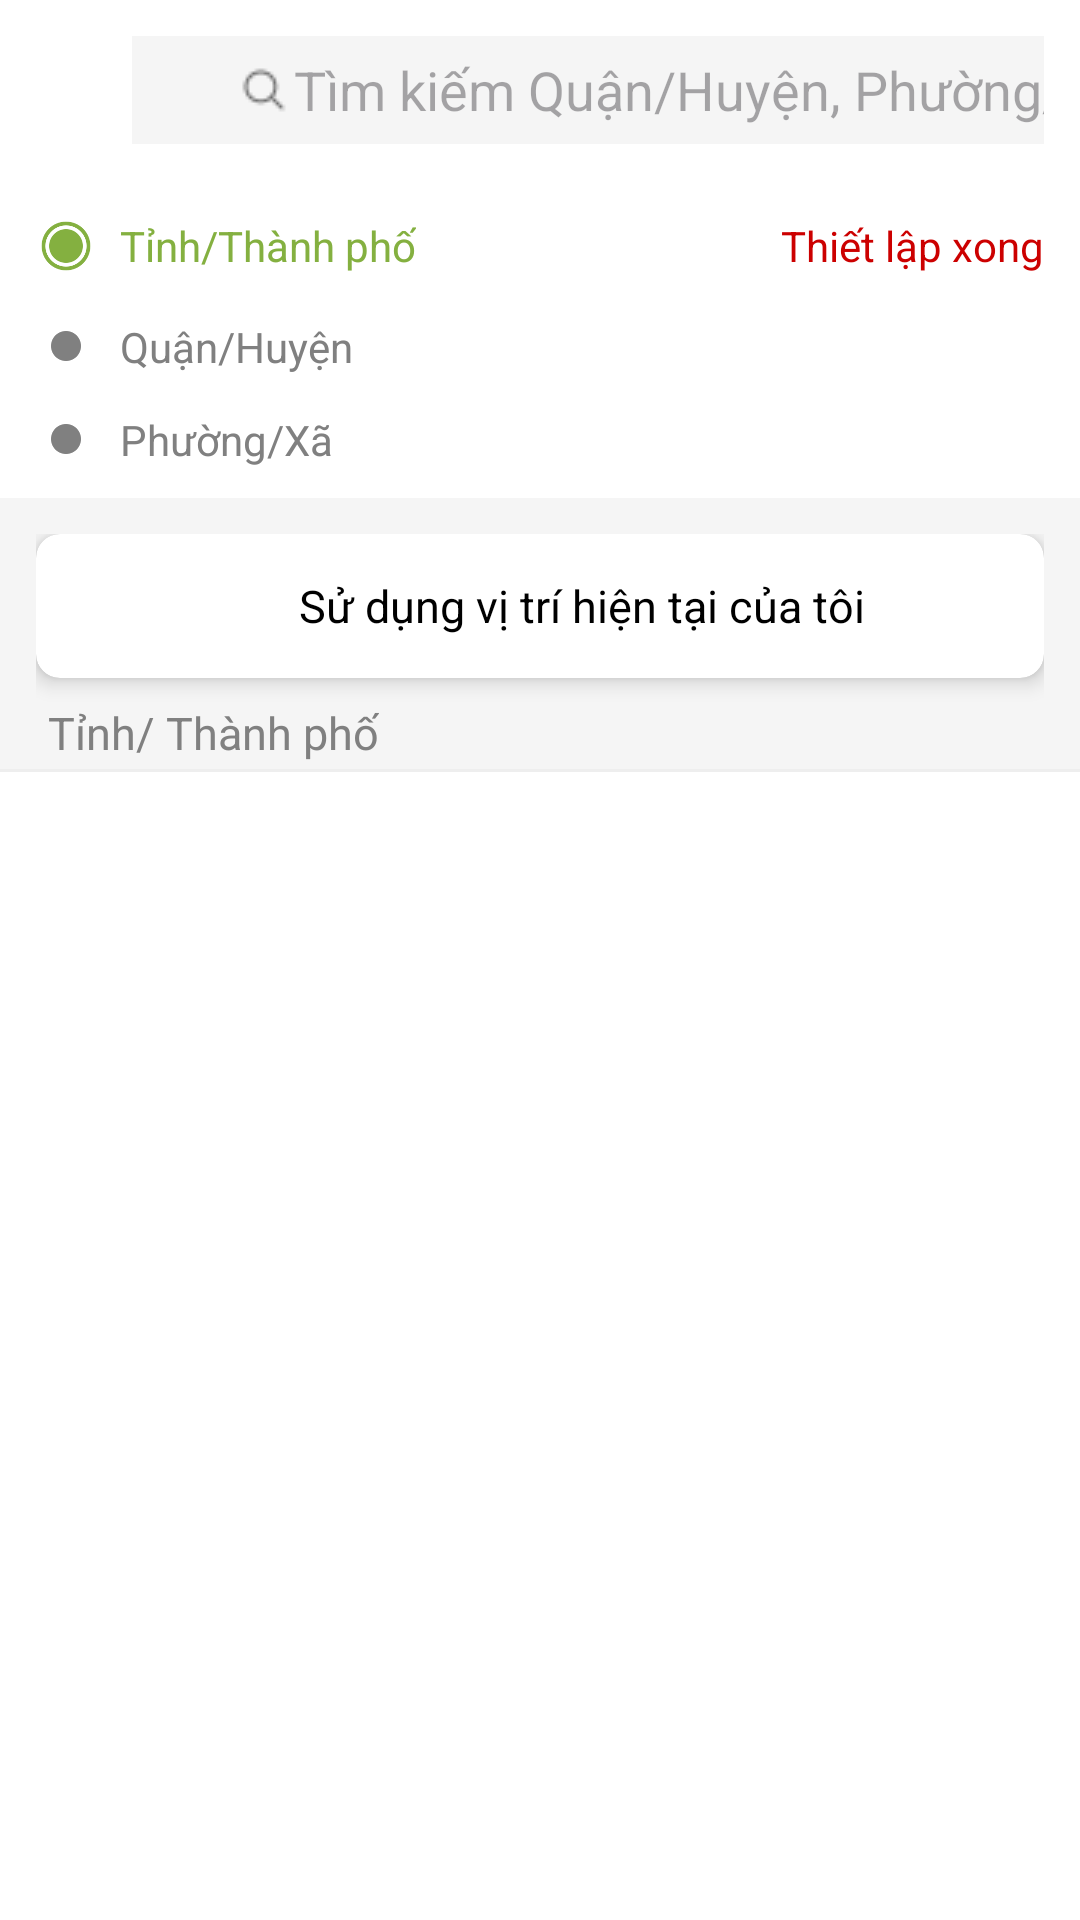

Locate icon controls on the screen. Image size 1080w x 1920h, boxes as region(x1, y1, x2, y2).
radio select: region(41, 221, 91, 271)
